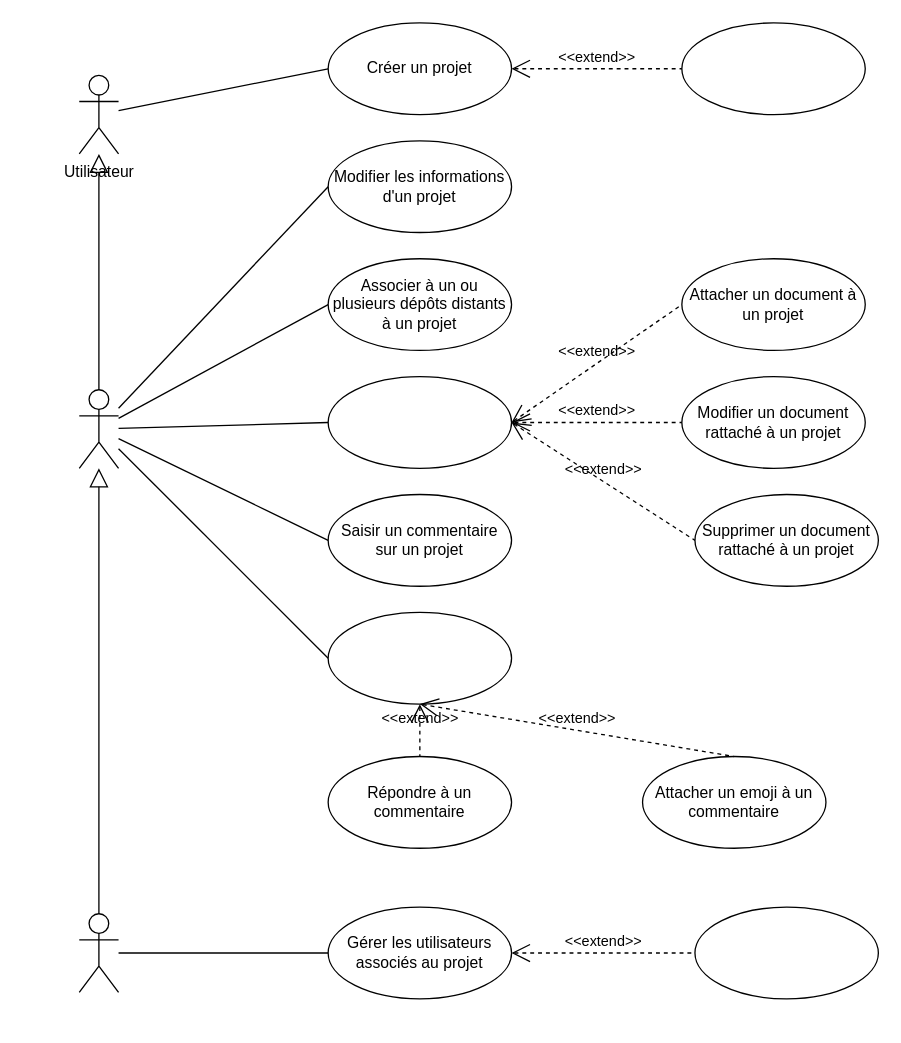
Some shapes in this 901 by 1043 pixel diagram are drawn without their labels. The centre of each missing label's shape, as x and y in pixels:
"Associer un projet à une équipe" goes at pixel 773 68.
"Définir un role pour chaque Utilisateur" goes at pixel 786 952.
"Gérer des document rattaché à un projet" goes at pixel 419 421.
"Utilisateur membre" goes at pixel 98 428.
"Utilisateur propriétaire" goes at pixel 98 952.
"Visualiser les commentaires d'un projet" goes at pixel 419 657.
